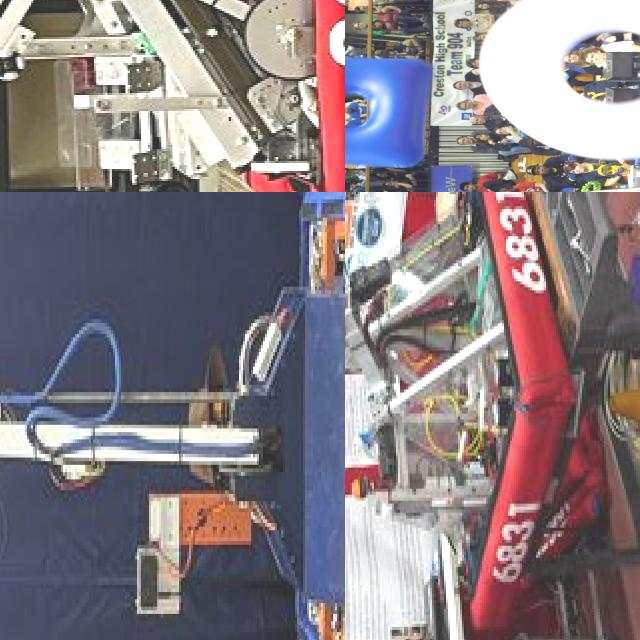FRC-Robots: (0, 192, 345, 640), (345, 192, 587, 640), (0, 0, 345, 192), (479, 122, 640, 192)
